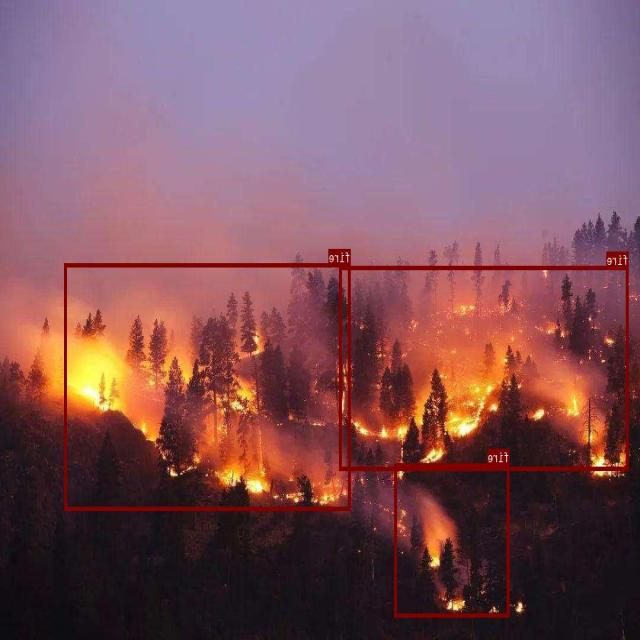fire: (65, 263, 351, 510), (340, 265, 629, 470), (395, 462, 510, 617)
